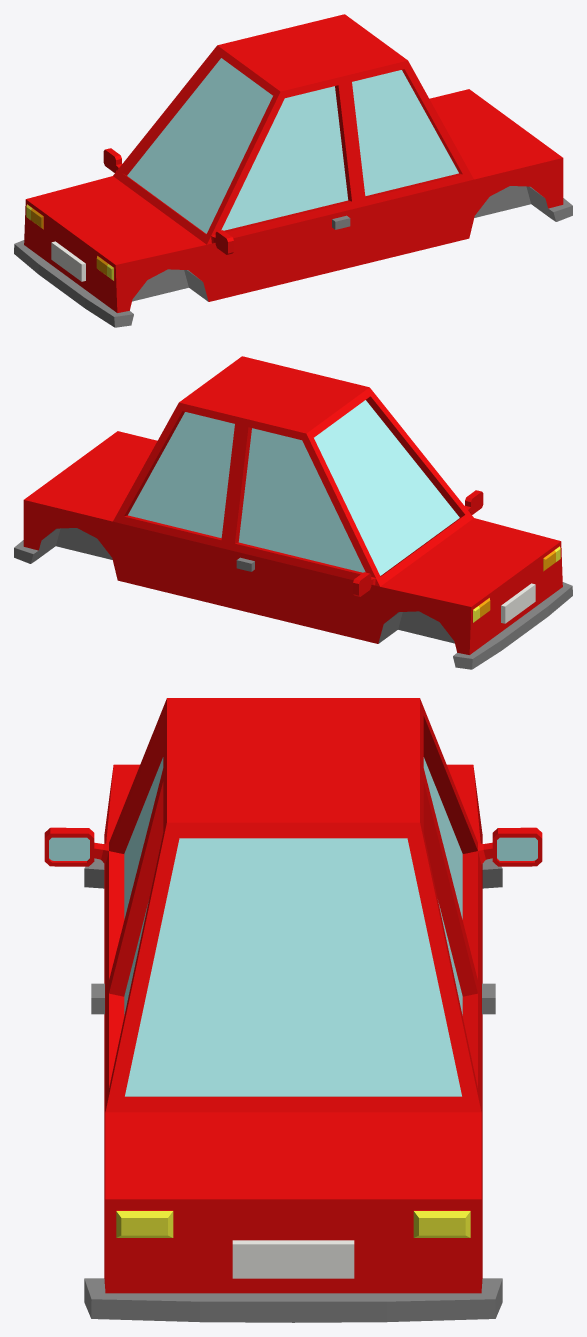
The model's file is carRed.fbx.
3 views of the same model, one above another, from view 1: azimuth 30°, elevation 25°; view 2: azimuth 150°, elevation 25°; view 3: azimuth 270°, elevation 25° (orthographic). The views are drawn at different scales.
Visible parts, largest first — view 1: carRed; view 2: carRed; view 3: carRed.
Boxes of the visible parts, x1,y1,x2,y2 form: carRed: (14, 14, 572, 327); carRed: (14, 356, 572, 669); carRed: (44, 698, 542, 1322).
Bounding box in the file's own units: 319 × 252 × 686.
